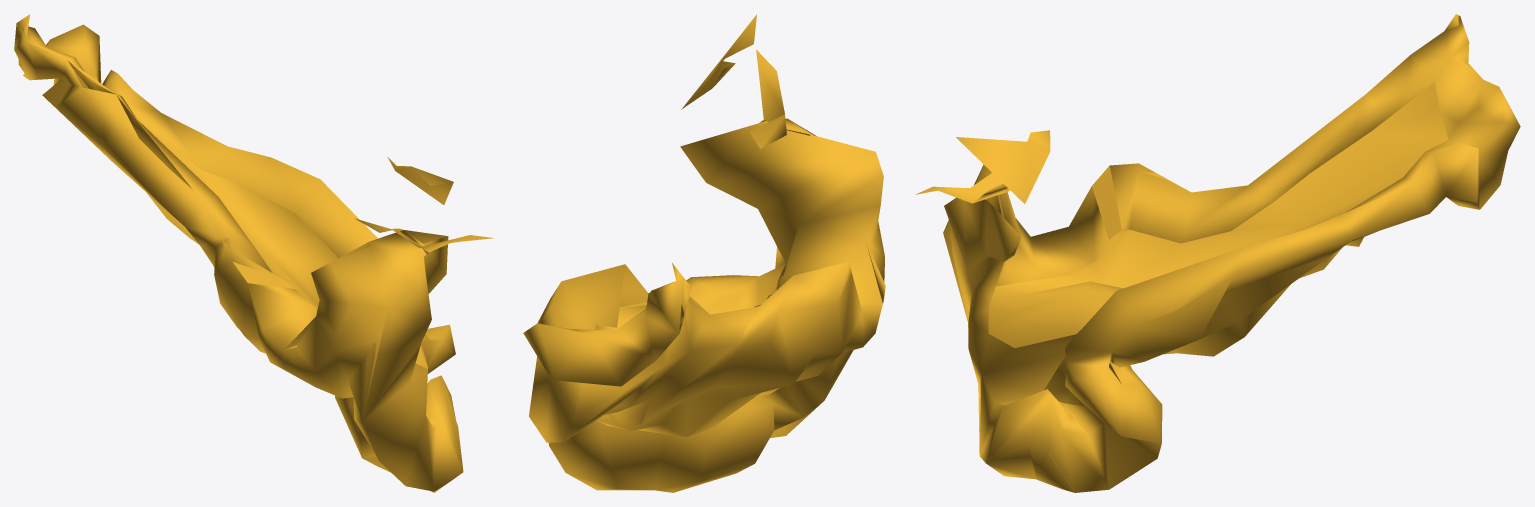
Rendered from nervoso-medial-occipitotemporal-gyrus-parahippocampal-l.glb.
3 renders of one model, left to right at view 1: azimuth 30°, elevation 25°; view 2: azimuth 150°, elevation 25°; view 3: azimuth 270°, elevation 25°, orthographic. The views are drawn at different scales.
Parts seen in each view (by area): view 1: Medial occipitotemporal gyrus (Parahippocampal*).l; view 2: Medial occipitotemporal gyrus (Parahippocampal*).l; view 3: Medial occipitotemporal gyrus (Parahippocampal*).l.
Part boxes in pixels (x1,y1,x2,y2): Medial occipitotemporal gyrus (Parahippocampal*).l: (14,14,494,492); Medial occipitotemporal gyrus (Parahippocampal*).l: (523,14,885,492); Medial occipitotemporal gyrus (Parahippocampal*).l: (915,14,1520,492).
Bounding box in the file's own units: 0.0315 × 0.0397 × 0.0588.
